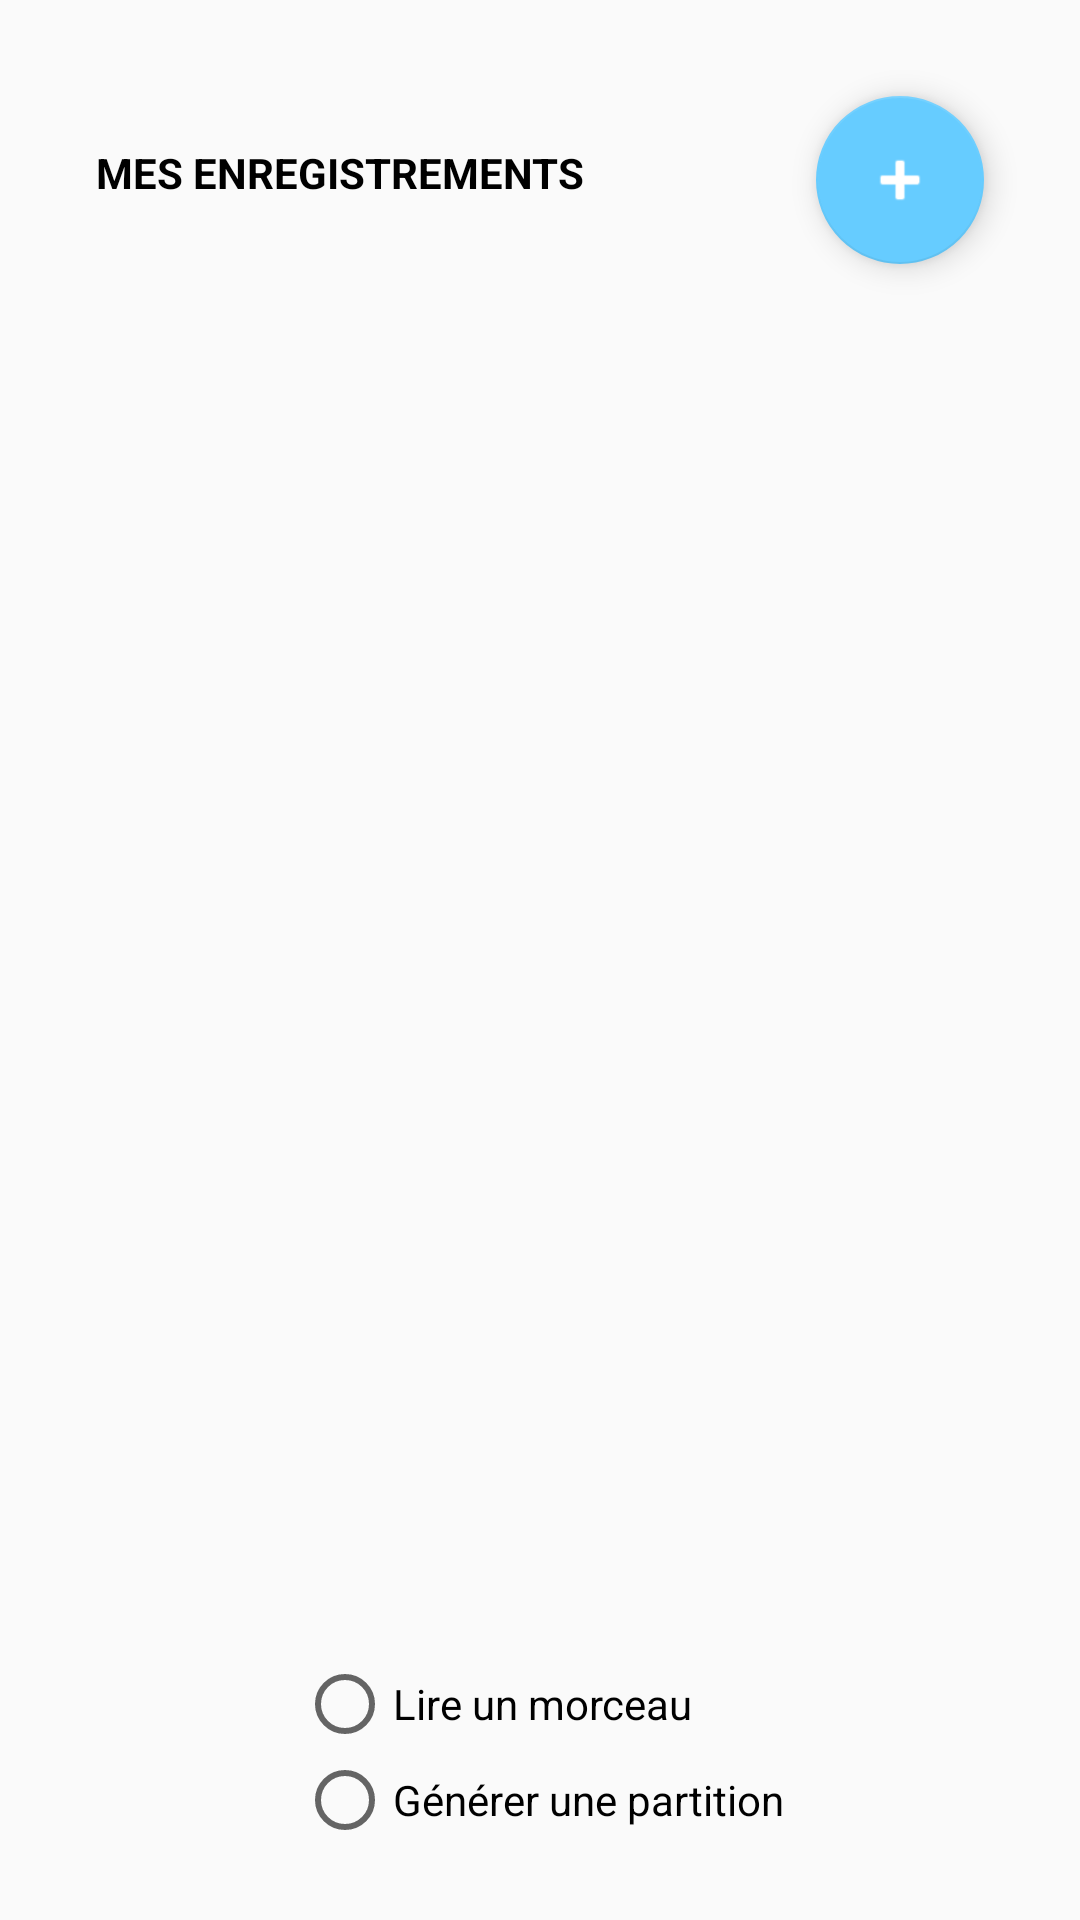

Point at icon controls on the screen. Image size 1080w x 1920h, points as point (x, y).
add: point (900, 180)
